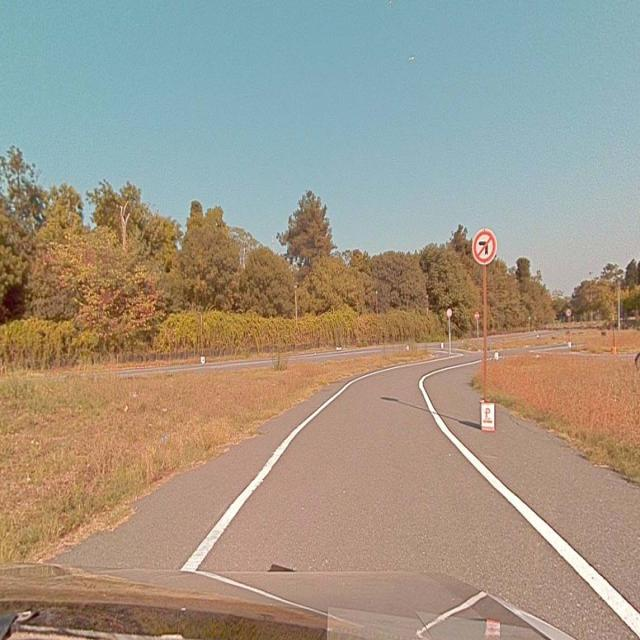soladonulmez: (473, 230, 497, 262)
